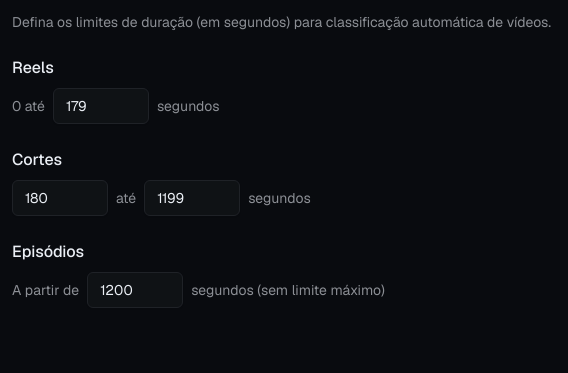
Scenario: DurationSettingsForm › shows "Alterações pendentes..." then "Salvando..." during save
Step 1. Replace the text in the number field named "Duração mínima de Episódios em segundos" with "1800" → (135, 290), box [87,272,183,308]
Wait 1500 ms
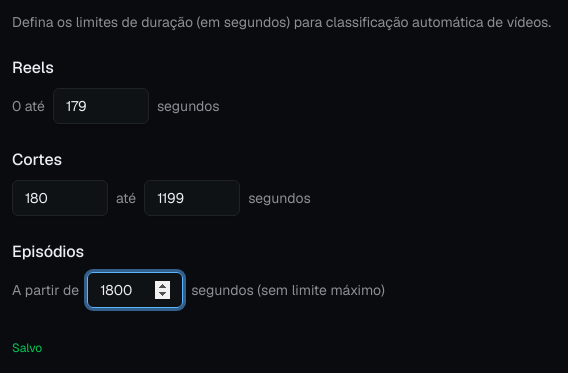
Check: the text "Salvo" is shown, box [12,340,42,356]
